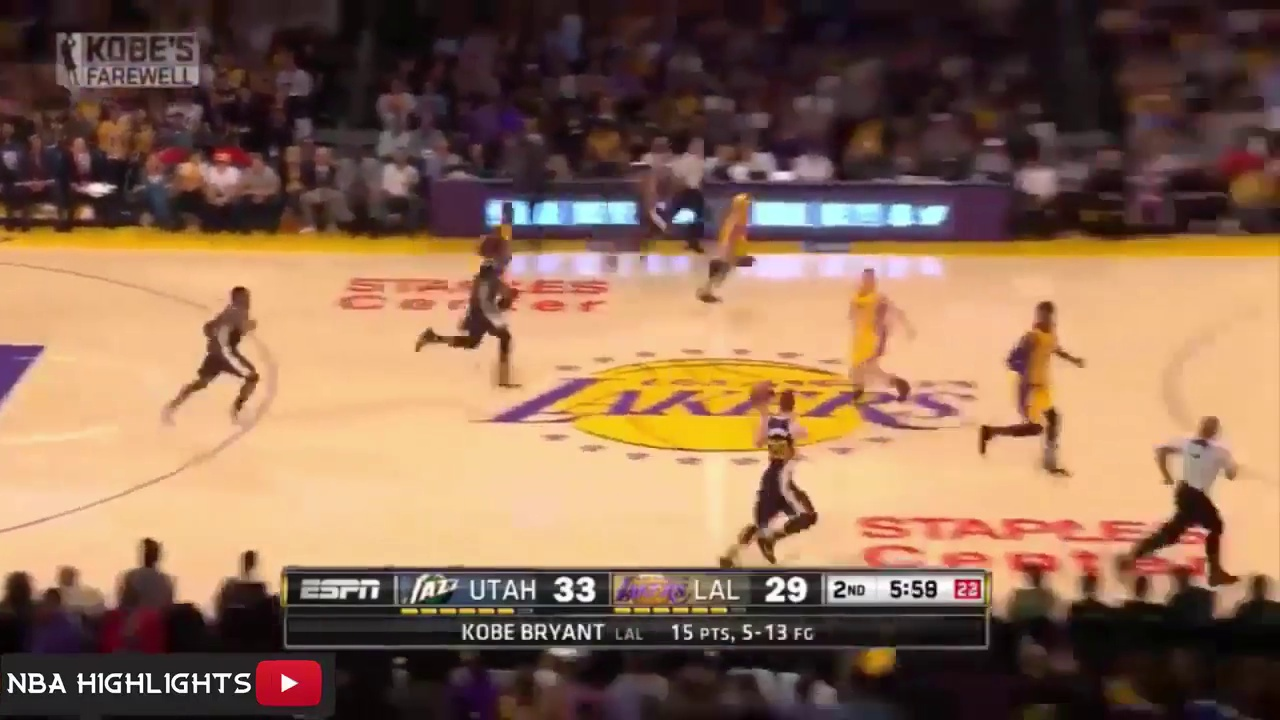jazz: (156, 284, 288, 449), (722, 382, 826, 563), (424, 251, 537, 392), (601, 154, 683, 274)
lakers: (984, 292, 1095, 480), (844, 251, 919, 422), (701, 182, 774, 309)
